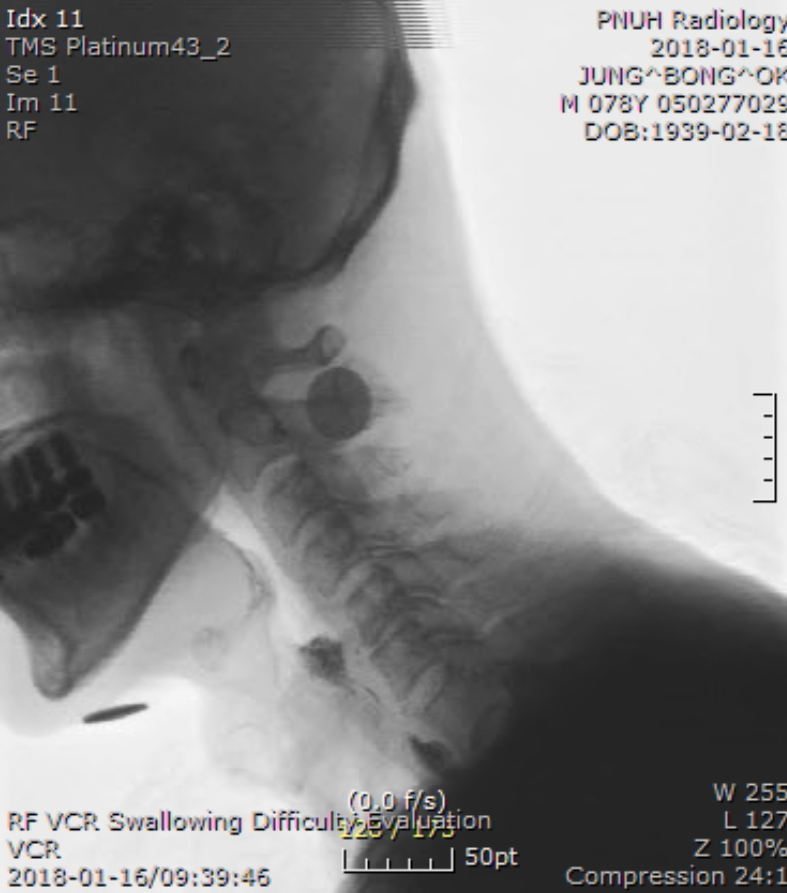dros: (263, 600, 351, 660)
food: (288, 636, 389, 707)
uros: (205, 535, 280, 607)
